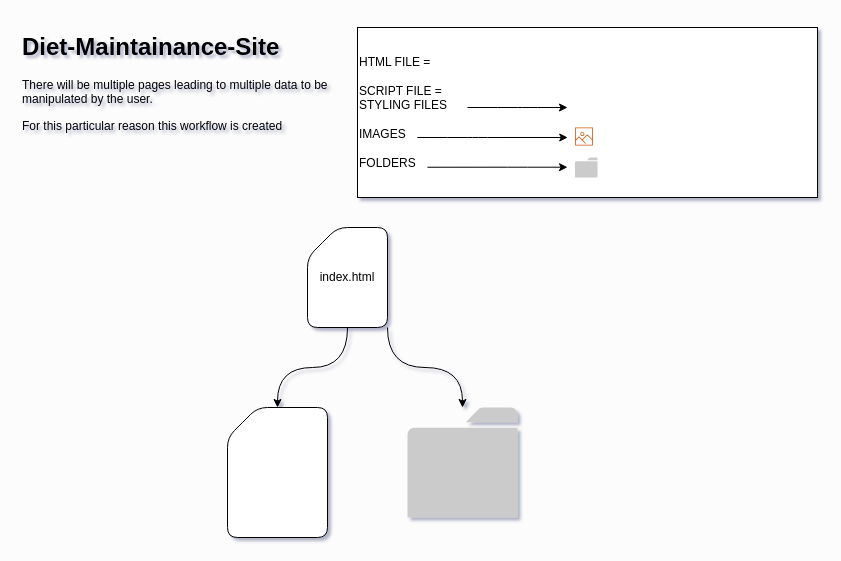
This 841x561 diagram has some shape labels left out. The centre of each missing label's shape, as x and y in pixels:
"FoodChart.html" belongs at pixel 277 472.
"WeeklyPlanHTML" belongs at pixel 462 462.
